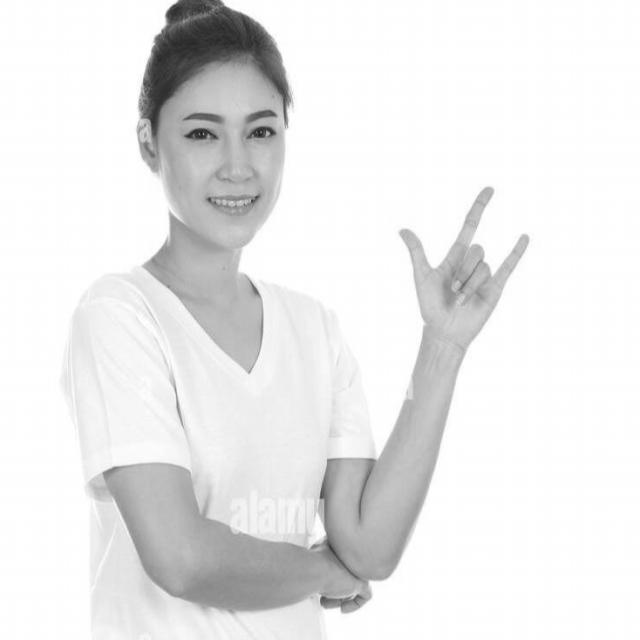i love you: (392, 180, 534, 353)
